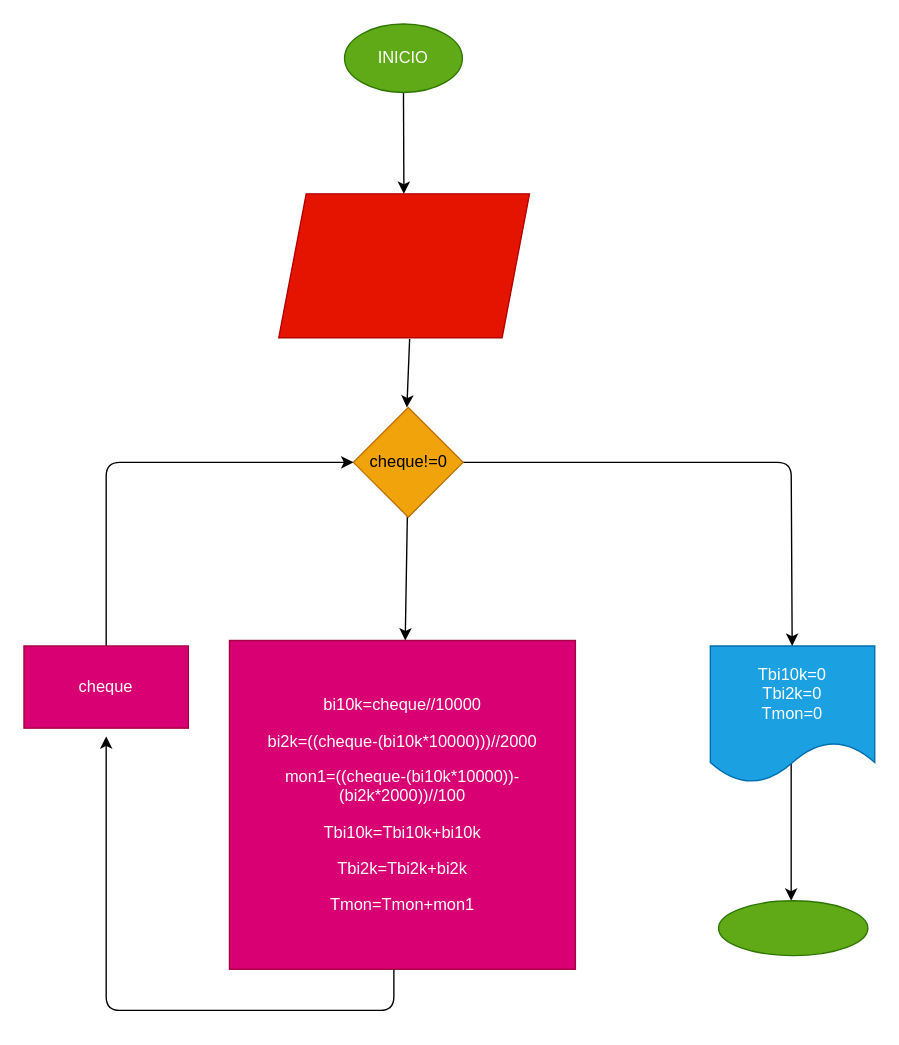
Image size: 899x1045. Some labels were removed from this diagram. The shapes that lost their labels are listed below. From the top down, each one's centre as x and y in pixels, then its label:
At [403,265]: "Tbi10k=0 Tbi2k=0 Tmon=0 bi10k=0 bi2k=0 mon1=0 cheque=int".
At [792,927]: "FIN".
